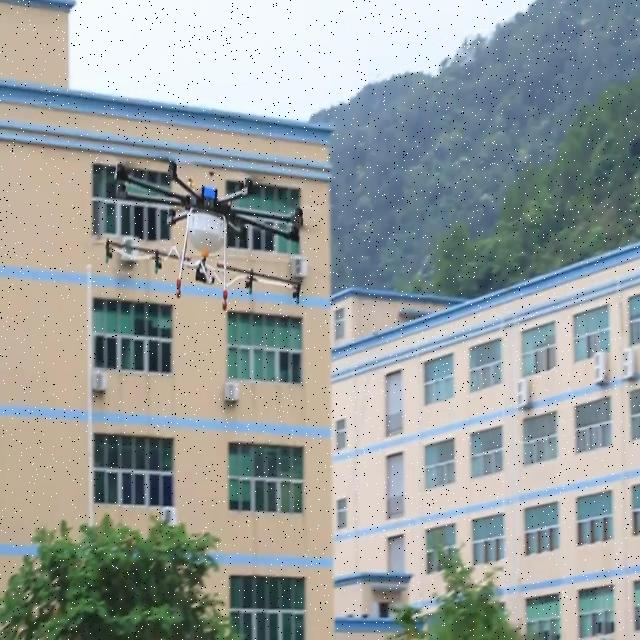UAV: (105, 161, 303, 310)
